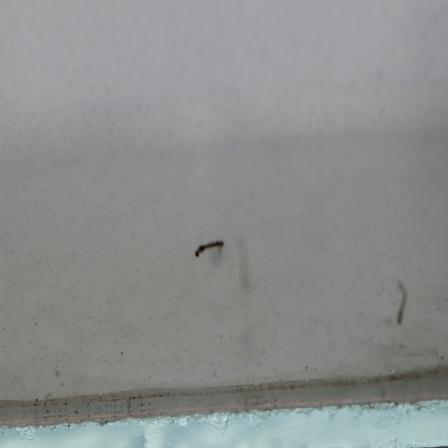Jentik-Nyamuk: (191, 235, 227, 262), (392, 277, 411, 327)
